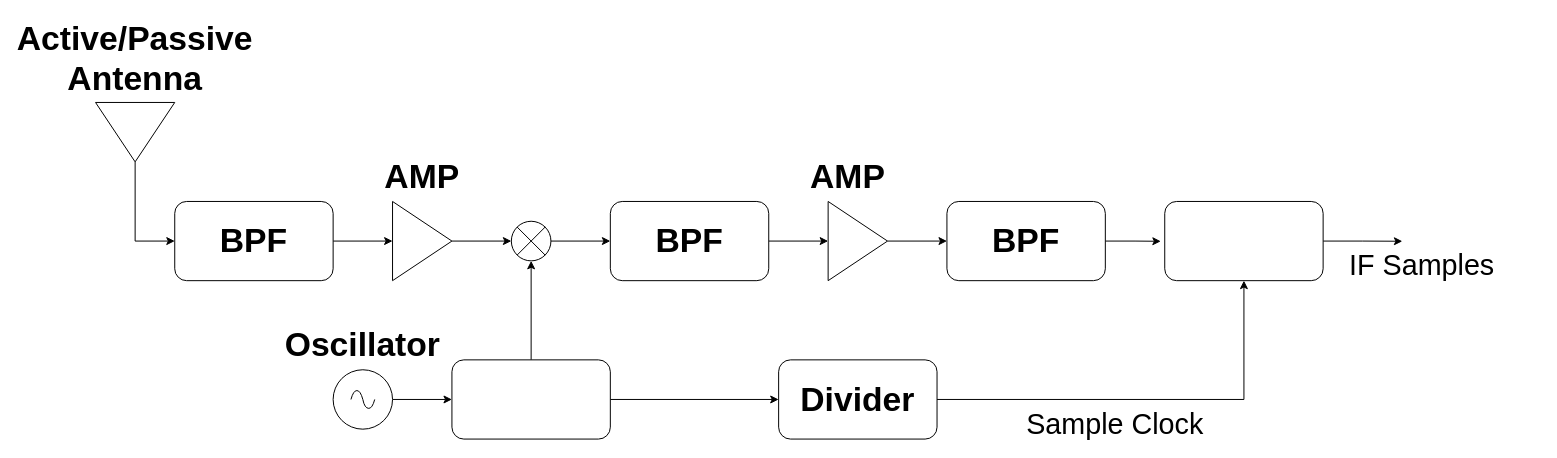
Some shapes in this 1557 by 458 pixel diagram are drawn without their labels. Here are the shapes that lost their labels. From the top down, the centre of each, then its label:
At point 1243,240: "ADC".
At point 530,399: "PLL".
